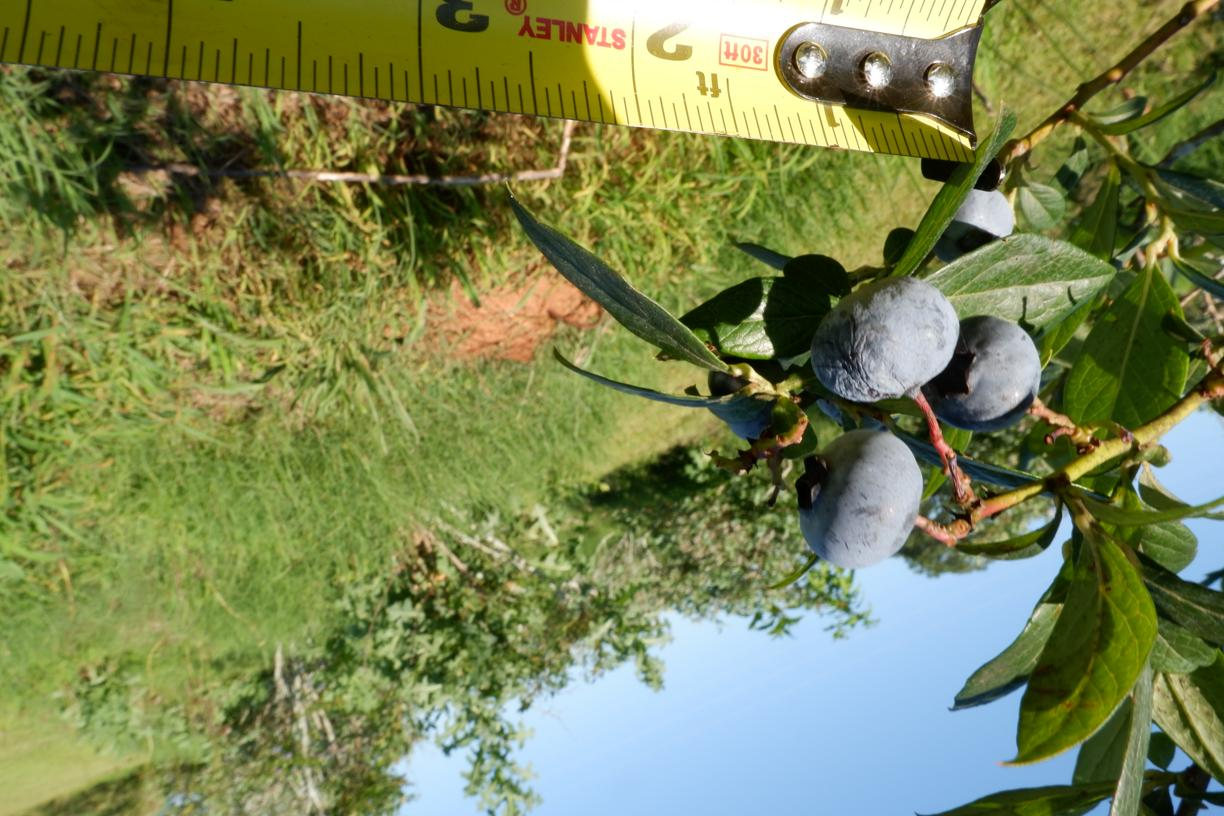Mature: (810, 276, 961, 401), (794, 428, 923, 569), (922, 315, 1040, 434)
